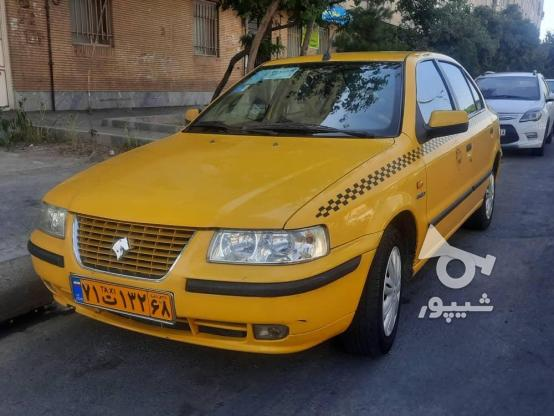car: (71, 276, 176, 323)
